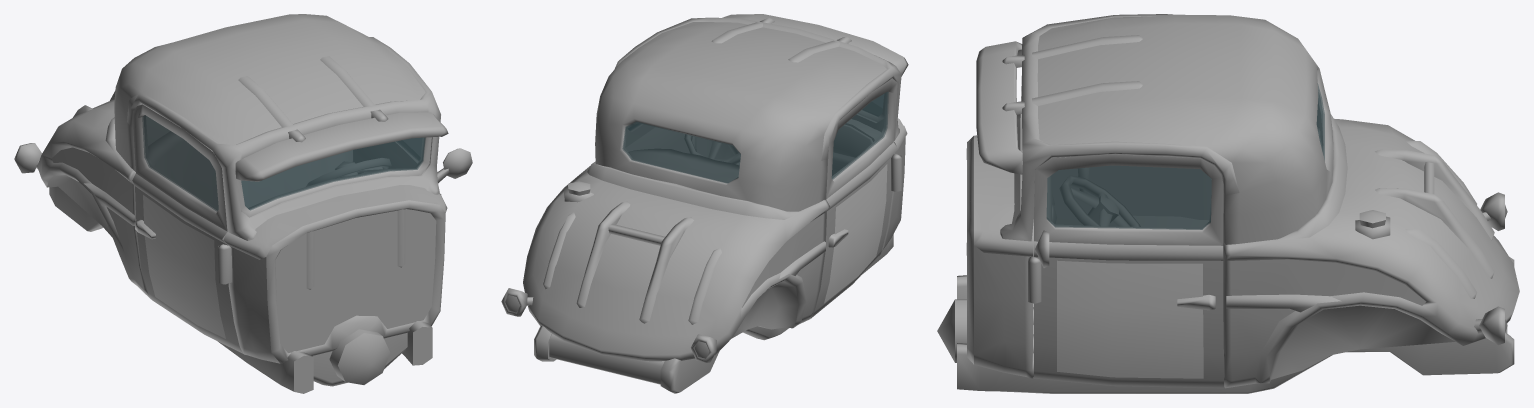
Rendered from Body_Bugster.fbx.
The picture shows the model from 3 angles, left to right: view 1: azimuth 30°, elevation 25°; view 2: azimuth 150°, elevation 25°; view 3: azimuth 270°, elevation 25°; orthographic projection. The views are drawn at different scales.
Visible parts, largest first — view 1: Bugster_Body_Mesh, Bugster_Roof_Mesh, Bugster_Door_Right_Mesh, Bugster_Door_Right_Decal_Mesh, Bugster_Roof_Cap_Mesh, Bugster_Roof_Windows_Mesh, Bugster_Door_Right_Window_Mesh, Bugster_Door_Left_Mesh, Deuce_Body_SteerWheel_Geom_Mesh; view 2: Bugster_Body_Mesh, Bugster_Roof_Mesh, Bugster_Door_Right_Mesh, Bugster_Roof_Windows_Mesh, Bugster_Door_Right_Decal_Mesh, Bugster_Door_Right_Window_Mesh, Bugster_Roof_Cap_Mesh, Bugster_Door_Left_Mesh, Deuce_Body_SteerWheel_Geom_Mesh; view 3: Bugster_Body_Mesh, Bugster_Roof_Mesh, Bugster_Door_Left_Mesh, Bugster_Door_Left_Decal_Mesh, Bugster_Door_Left_Window_Mesh, Bugster_Door_Right_Mesh, Bugster_Roof_Cap_Mesh, Deuce_Body_SteerWheel_Geom_Mesh.
Part boxes in pixels (x1,y1,x2,y2): Bugster_Body_Mesh: [14, 91, 447, 393]; Bugster_Roof_Mesh: [114, 14, 440, 240]; Bugster_Door_Right_Mesh: [132, 104, 243, 353]; Bugster_Door_Right_Decal_Mesh: [143, 195, 225, 338]; Bugster_Roof_Cap_Mesh: [235, 109, 448, 181]; Bugster_Roof_Windows_Mesh: [241, 137, 425, 210]; Bugster_Door_Right_Window_Mesh: [142, 115, 218, 211]; Bugster_Door_Left_Mesh: [353, 142, 472, 183]; Deuce_Body_SteerWheel_Geom_Mesh: [306, 158, 391, 186]; Bugster_Body_Mesh: [501, 118, 907, 393]; Bugster_Roof_Mesh: [595, 17, 901, 211]; Bugster_Door_Right_Mesh: [810, 78, 898, 318]; Bugster_Roof_Windows_Mesh: [622, 94, 883, 183]; Bugster_Door_Right_Decal_Mesh: [824, 164, 887, 303]; Bugster_Door_Right_Window_Mesh: [831, 91, 888, 179]; Bugster_Roof_Cap_Mesh: [722, 14, 908, 76]; Bugster_Door_Left_Mesh: [625, 124, 711, 157]; Deuce_Body_SteerWheel_Geom_Mesh: [684, 134, 740, 163]; Bugster_Body_Mesh: [937, 114, 1519, 393]; Bugster_Roof_Mesh: [1000, 14, 1333, 244]; Bugster_Door_Left_Mesh: [1034, 154, 1223, 388]; Bugster_Door_Left_Decal_Mesh: [1057, 260, 1203, 378]; Bugster_Door_Left_Window_Mesh: [1046, 165, 1211, 229]; Bugster_Door_Right_Mesh: [1052, 166, 1211, 226]; Bugster_Roof_Cap_Mesh: [976, 41, 1024, 174]; Deuce_Body_SteerWheel_Geom_Mesh: [1059, 175, 1140, 226].
Size of the model in its own units: 172 by 165 by 282.
